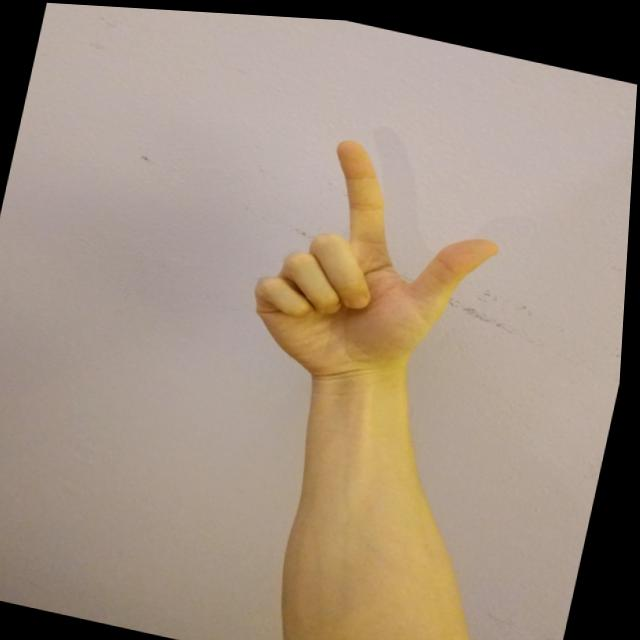L: (235, 115, 526, 407)
